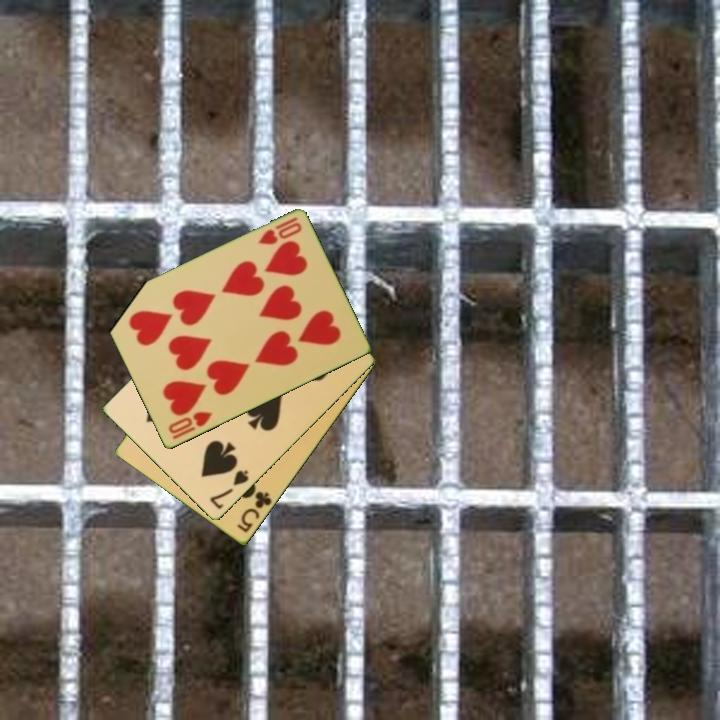10h: (165, 408, 215, 443), (255, 214, 305, 248)
5c: (233, 488, 275, 536)
7s: (206, 467, 252, 513)
